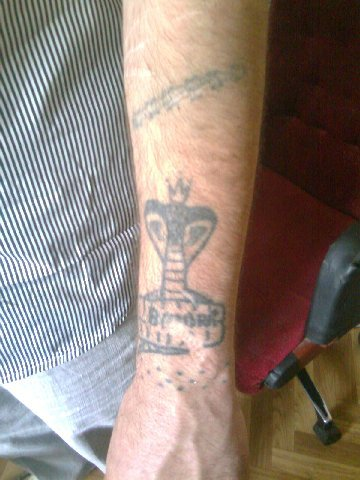tatu7_zmeya: (142, 173, 222, 348)
